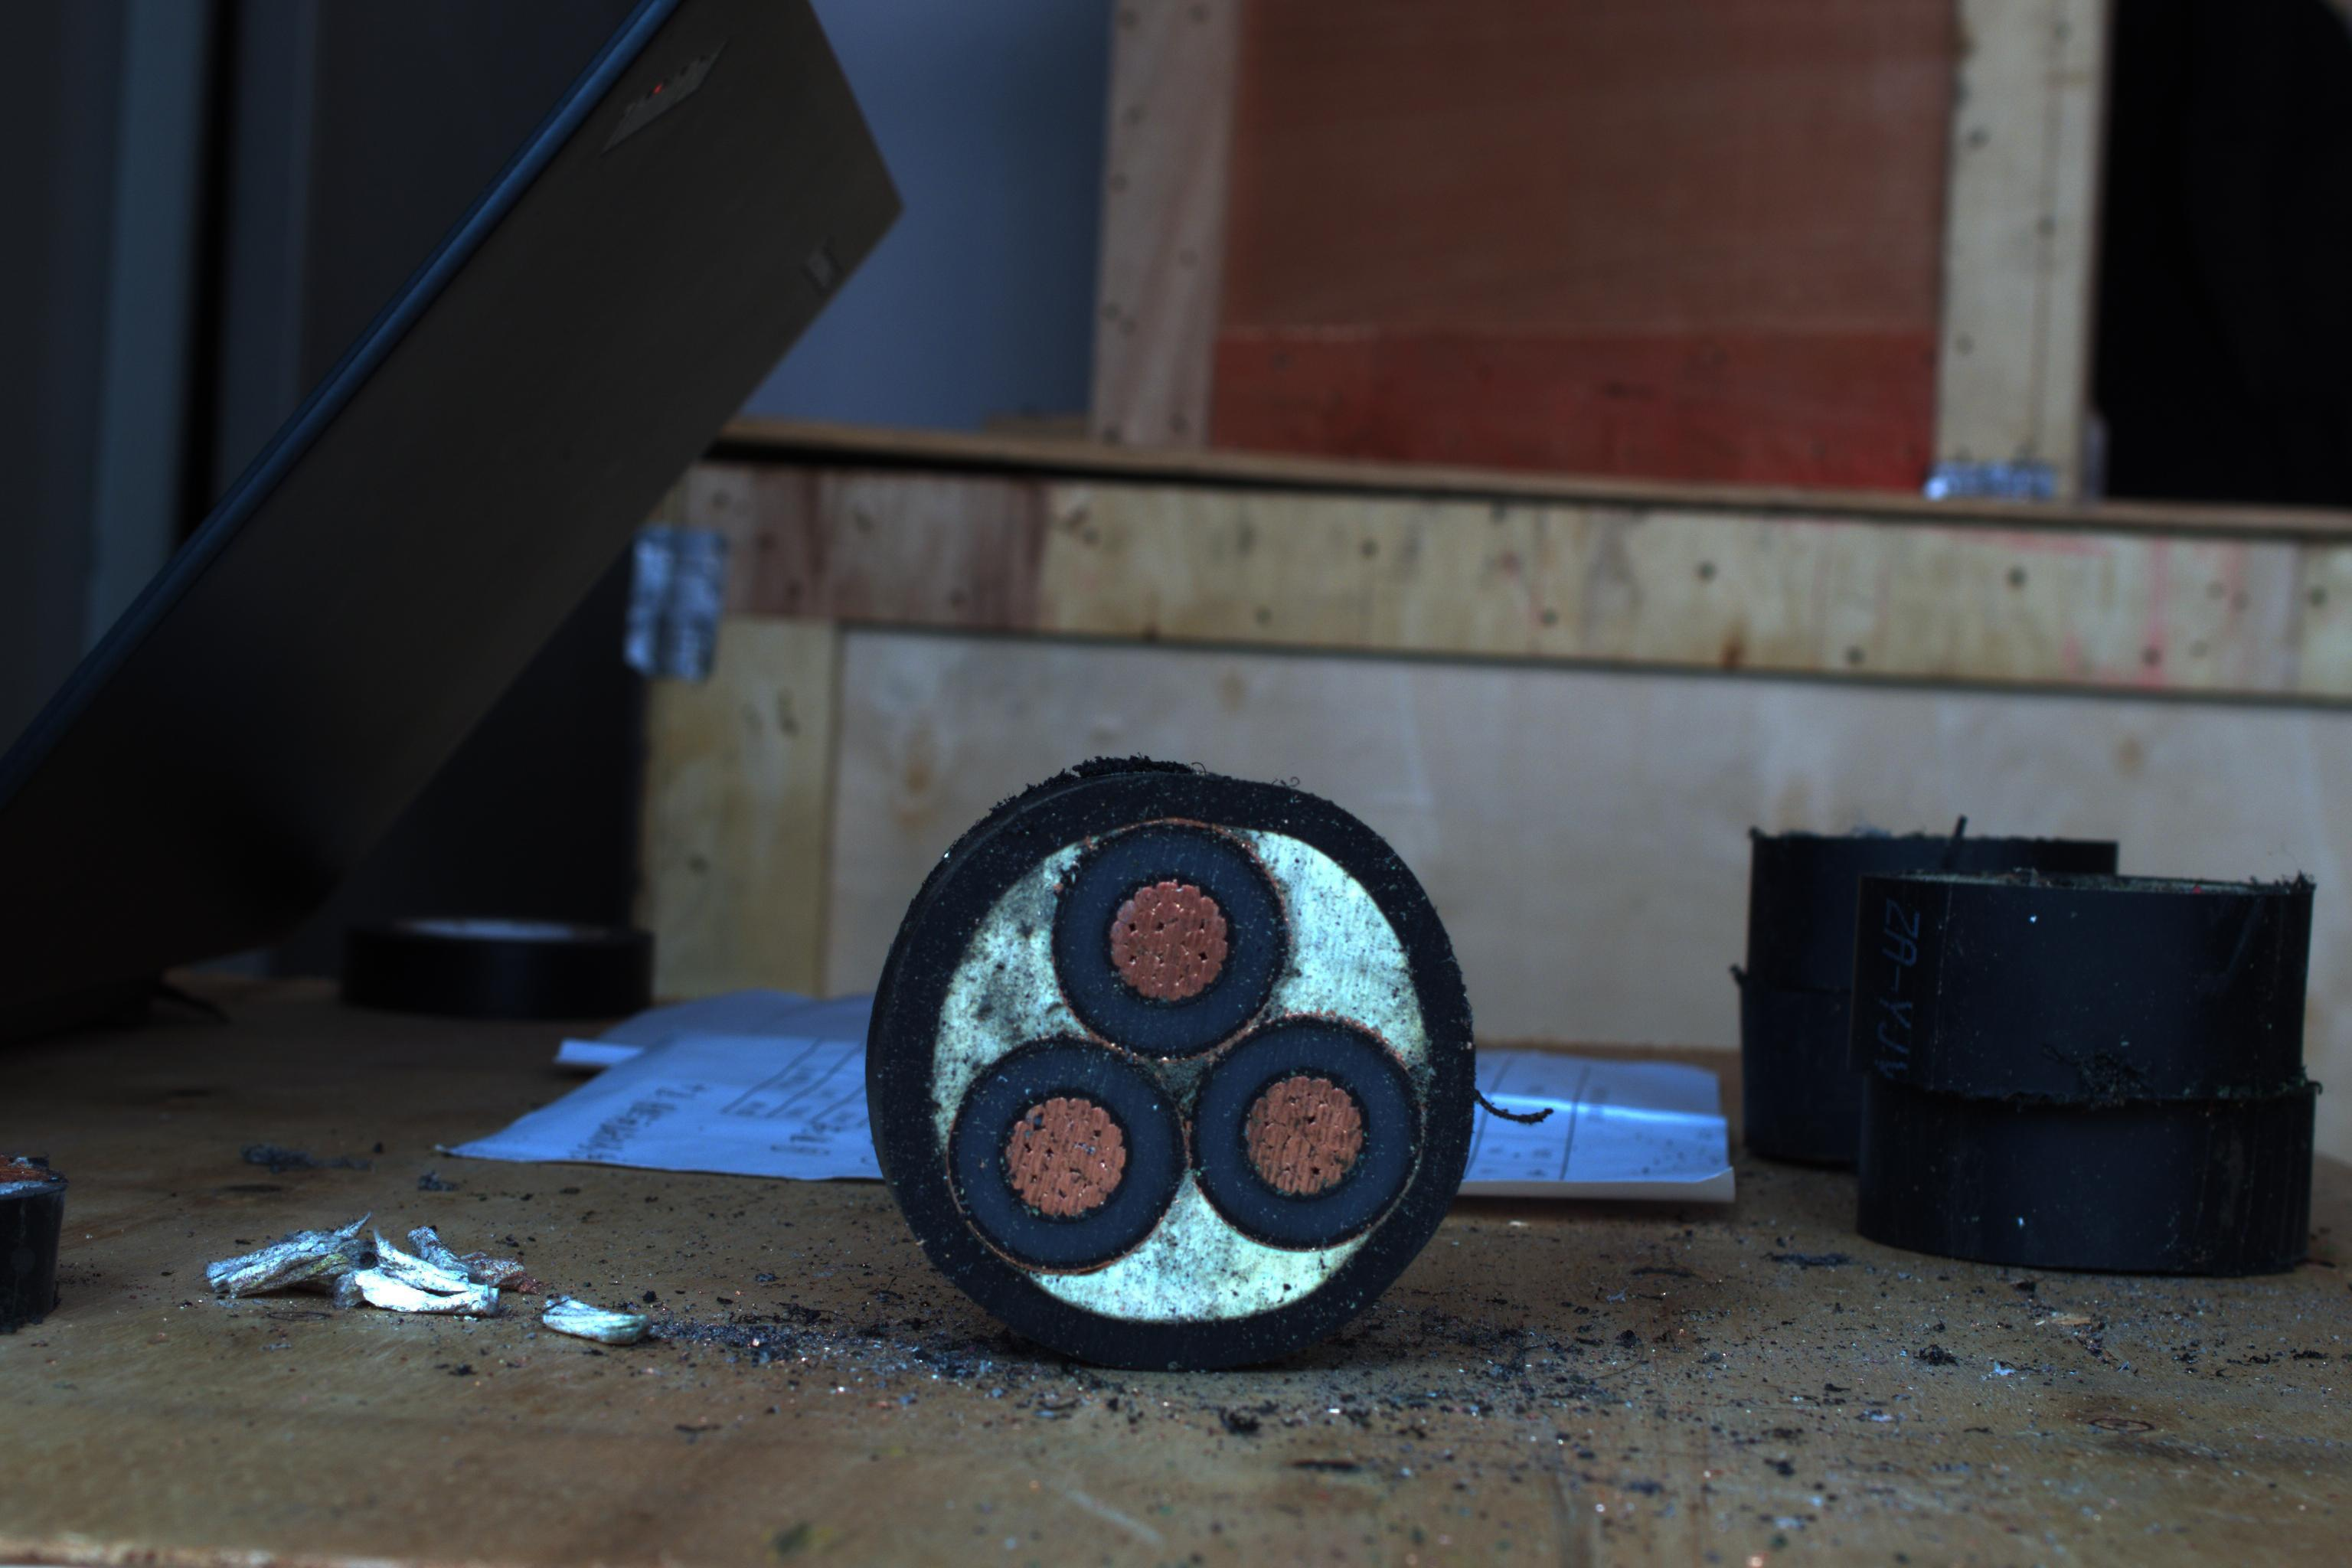ZA_YJV_8.7_10kV_3x120: (894, 772, 1468, 1367)
